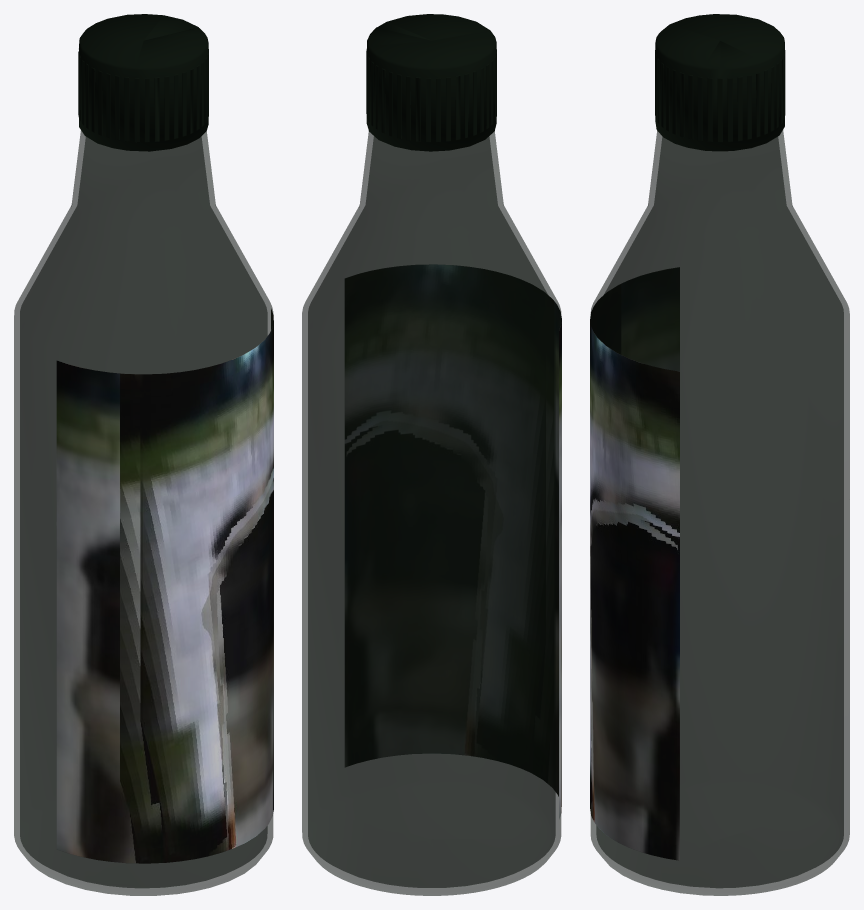
The picture shows the model from 3 angles, left to right: view 1: azimuth 30°, elevation 25°; view 2: azimuth 150°, elevation 25°; view 3: azimuth 270°, elevation 25°; orthographic projection.
Visible parts, largest first — view 1: oil_bottle__body, oil_bottle__cap; view 2: oil_bottle__body, oil_bottle__cap; view 3: oil_bottle__body, oil_bottle__cap.
Boxes of the visible parts, x1,y1,x2,y2 form: oil_bottle__body: (14,130,273,895); oil_bottle__cap: (78,14,208,151); oil_bottle__body: (302,131,561,895); oil_bottle__cap: (366,14,496,151); oil_bottle__body: (590,130,849,895); oil_bottle__cap: (655,14,785,151).
Size of the model in its own units: 0.0651 by 0.2227 by 0.0652.
3 materials, 1 textured.
